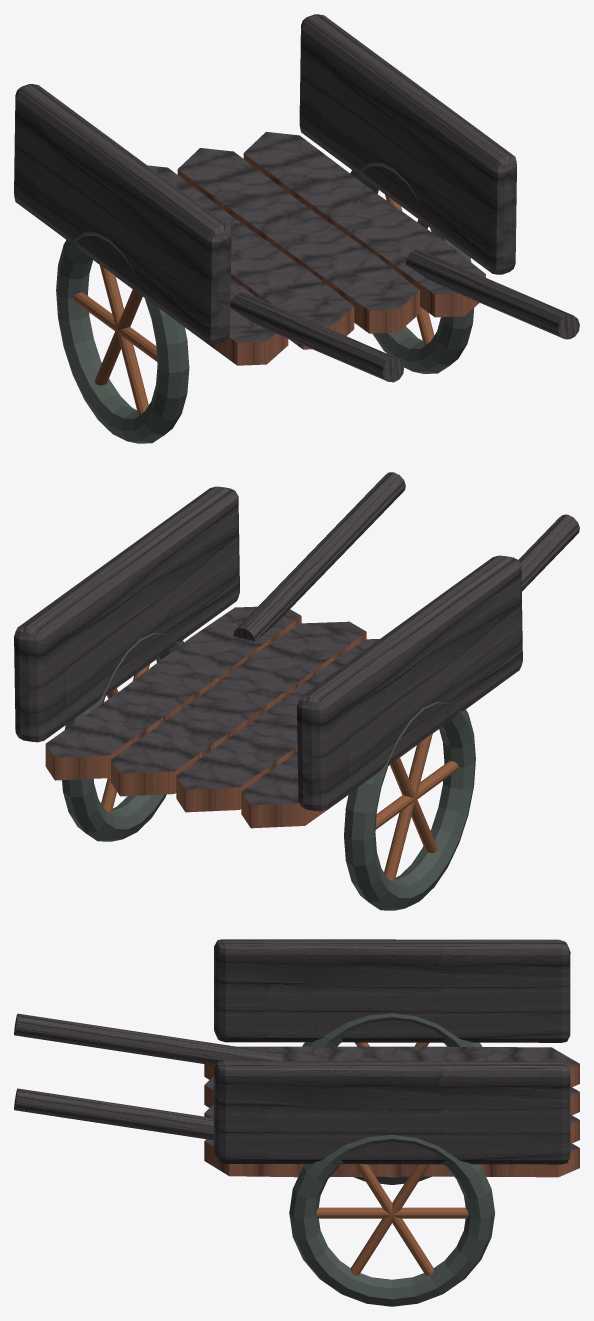
Rendered from Abandoned_Handcart_Barren.glb.
3 renders of one model, top to bottom at view 1: azimuth 30°, elevation 25°; view 2: azimuth 150°, elevation 25°; view 3: azimuth 270°, elevation 25°, orthographic. The views are drawn at different scales.
Visible parts, largest first — view 1: Structure; view 2: Structure; view 3: Structure.
Boxes of the visible parts, <box> form: Structure: <box>14,14,579,443</box>; Structure: <box>14,472,579,910</box>; Structure: <box>14,939,579,1306</box>.
Bounding box in the file's own units: 1.44 × 1.22 × 2.56.
Materials: 4 (2 with a texture image).
